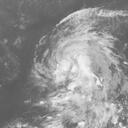cyclone: (33, 31, 117, 108)
